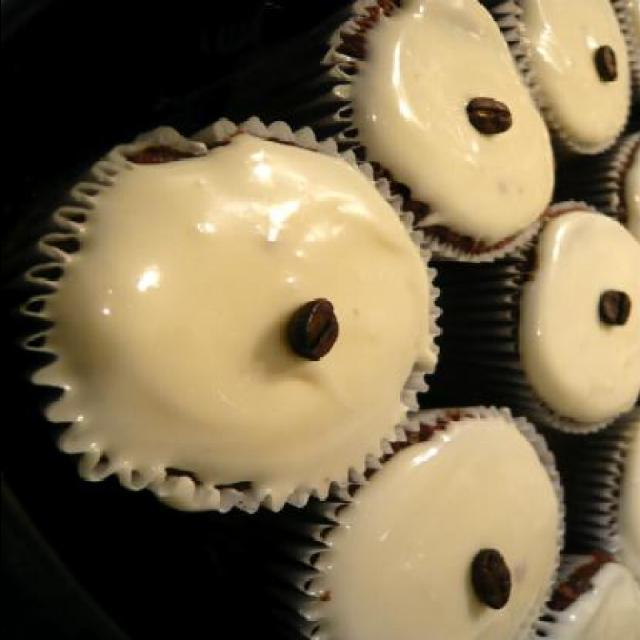Muffin: (2, 0, 640, 640)
